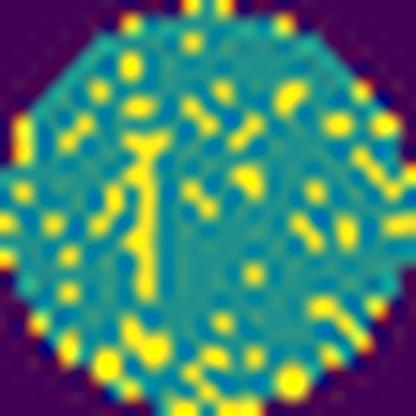Scratch: (84, 125, 175, 304)
